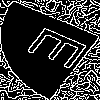E: (25, 25, 100, 76)
